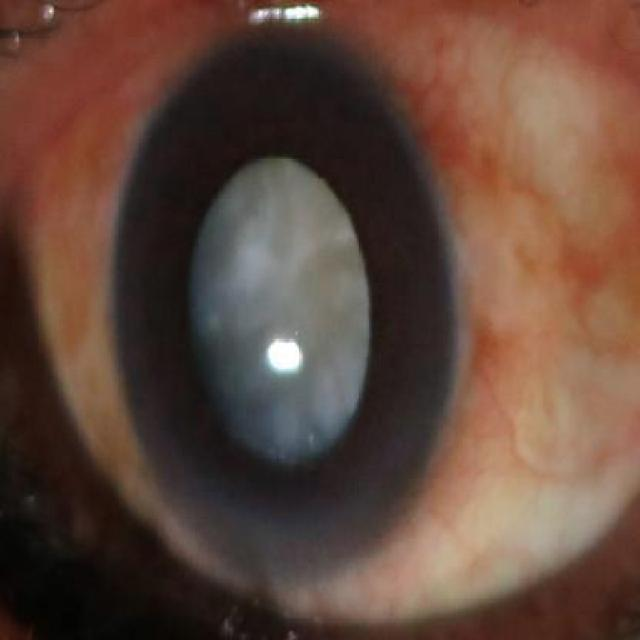Cataract: (116, 34, 461, 584)
